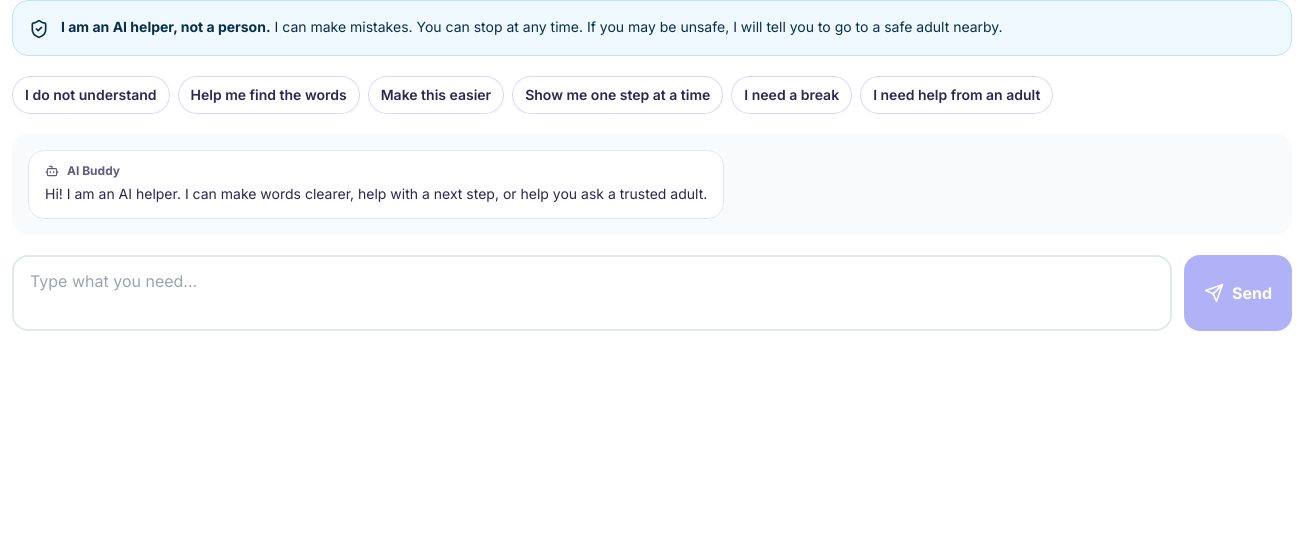
it: Buddy conversation provides direct help guidance without unavailable recording
Step 1. Click the button "I need help from an adult" → (957, 95), box x1=860 y1=76 x2=1053 y2=114
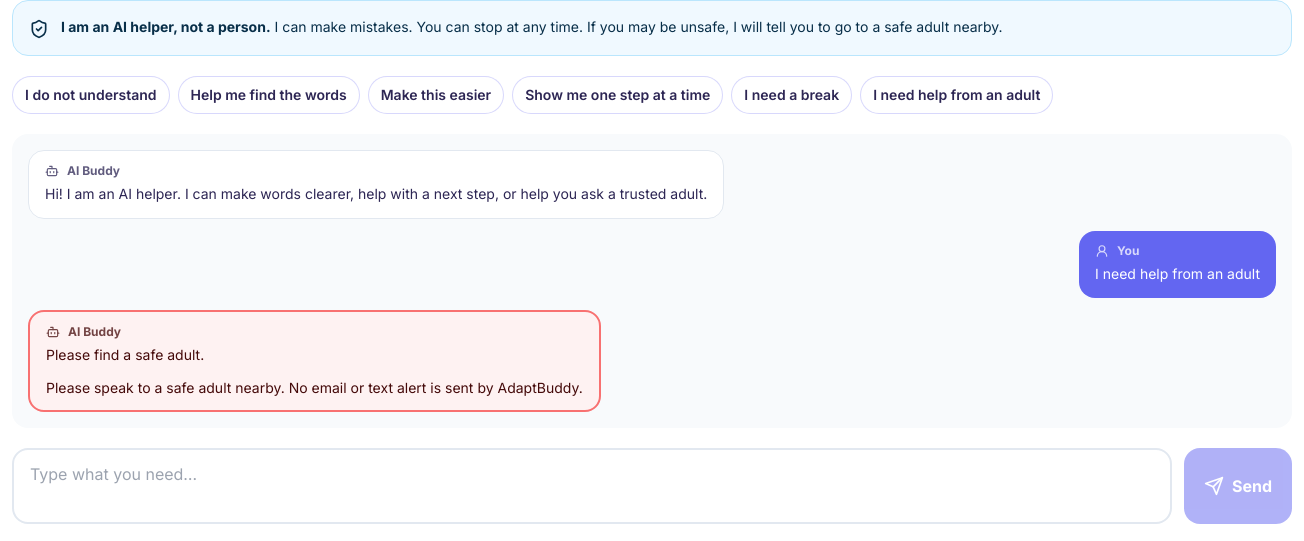
Expected: the text "No email or text alert is sent by AdaptBuddy" is shown, x1=46 y1=379 x2=583 y2=396
